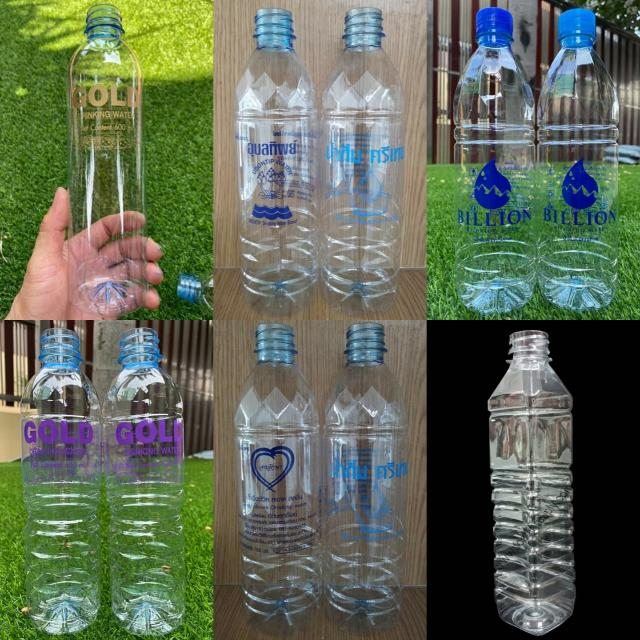plastik: (234, 323, 321, 634), (488, 330, 575, 635), (68, 5, 151, 319), (324, 323, 408, 633), (321, 8, 405, 316), (101, 328, 185, 635), (235, 9, 319, 315), (454, 8, 536, 314), (21, 329, 101, 634), (538, 10, 619, 311)
